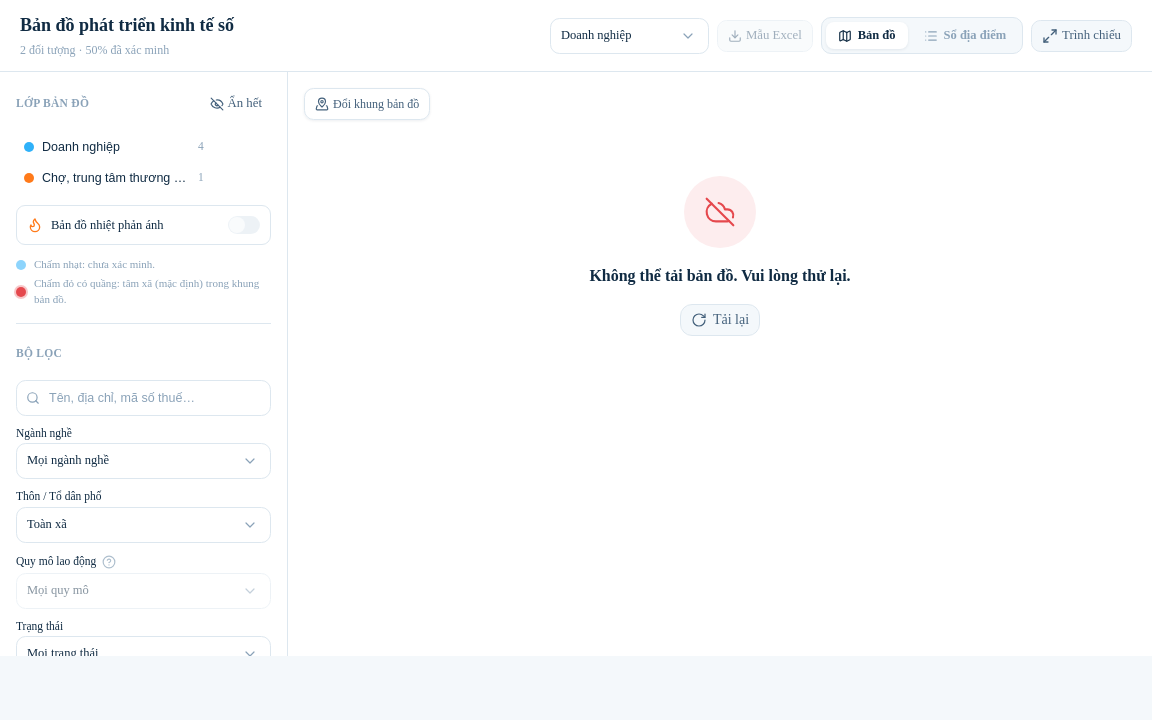
Scenario: Về mặc định (K4) › default frame in effect: no Về mặc định, the form says so, the legend says (mặc định)
The width and height of the screenshot is (1152, 720).
Click the button "Đổi khung bản đồ" at (367, 104), box [304, 88, 430, 120]
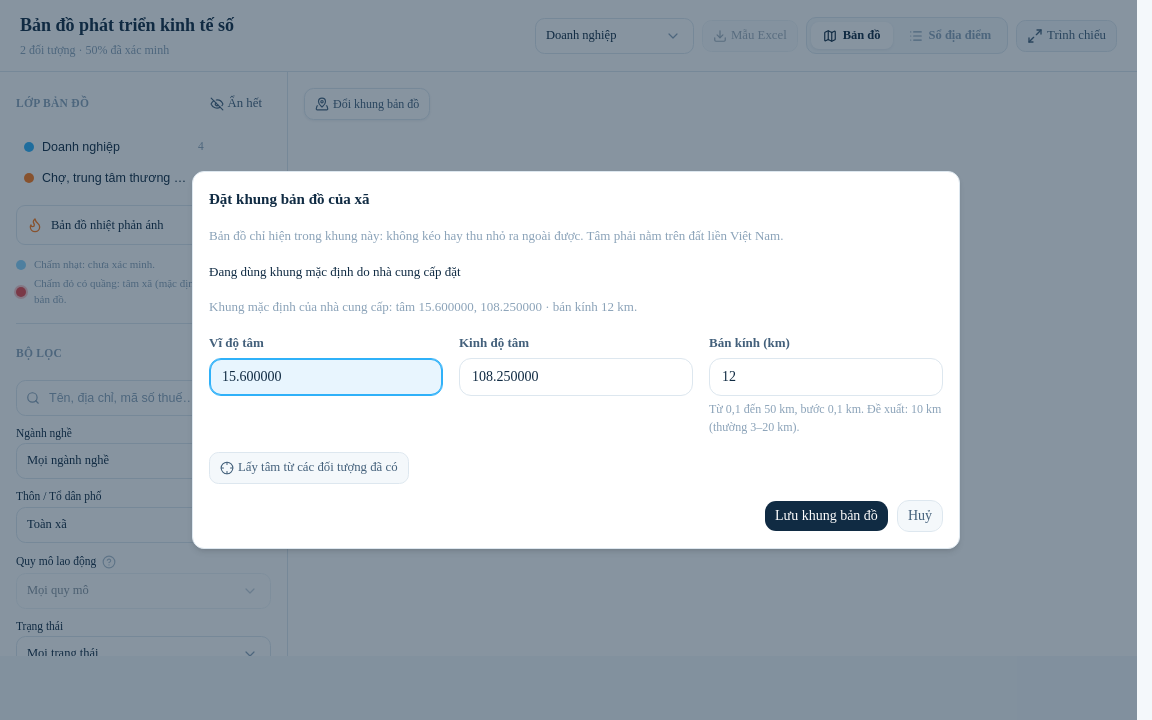
Expected: the text "Chấm đỏ có quầng: tâm xã (mặc định) trong khung bản đồ." is shown, [34, 276, 271, 307]
Result: the text "Đang dùng khung mặc định do nhà cung cấp đặt" is shown at [209, 264, 461, 279]
